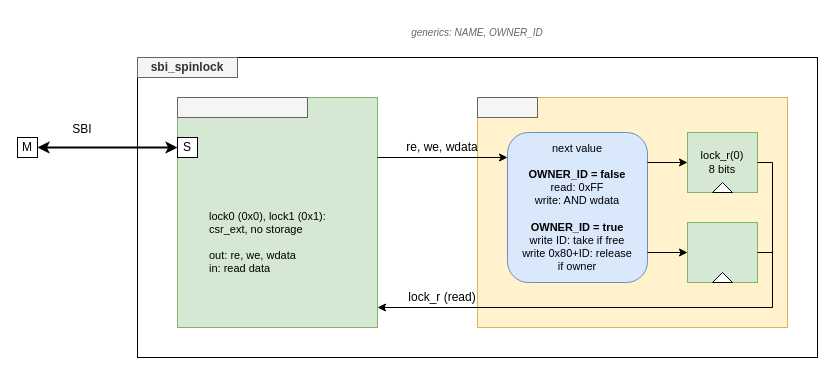
The diagram is 835 pixels wide and 375 high, and some of its shapes have lost their labels. Each missing label, with the box of its shape:
lock_r(1) 8 bits: (686, 222, 758, 282)
p_lock: (476, 96, 538, 118)
spinlock_registers: (176, 96, 308, 118)
